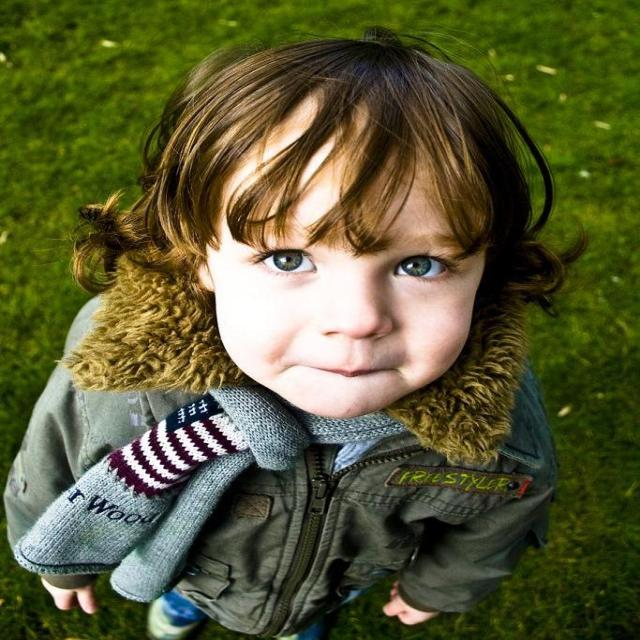no-glass: (248, 245, 456, 280)
